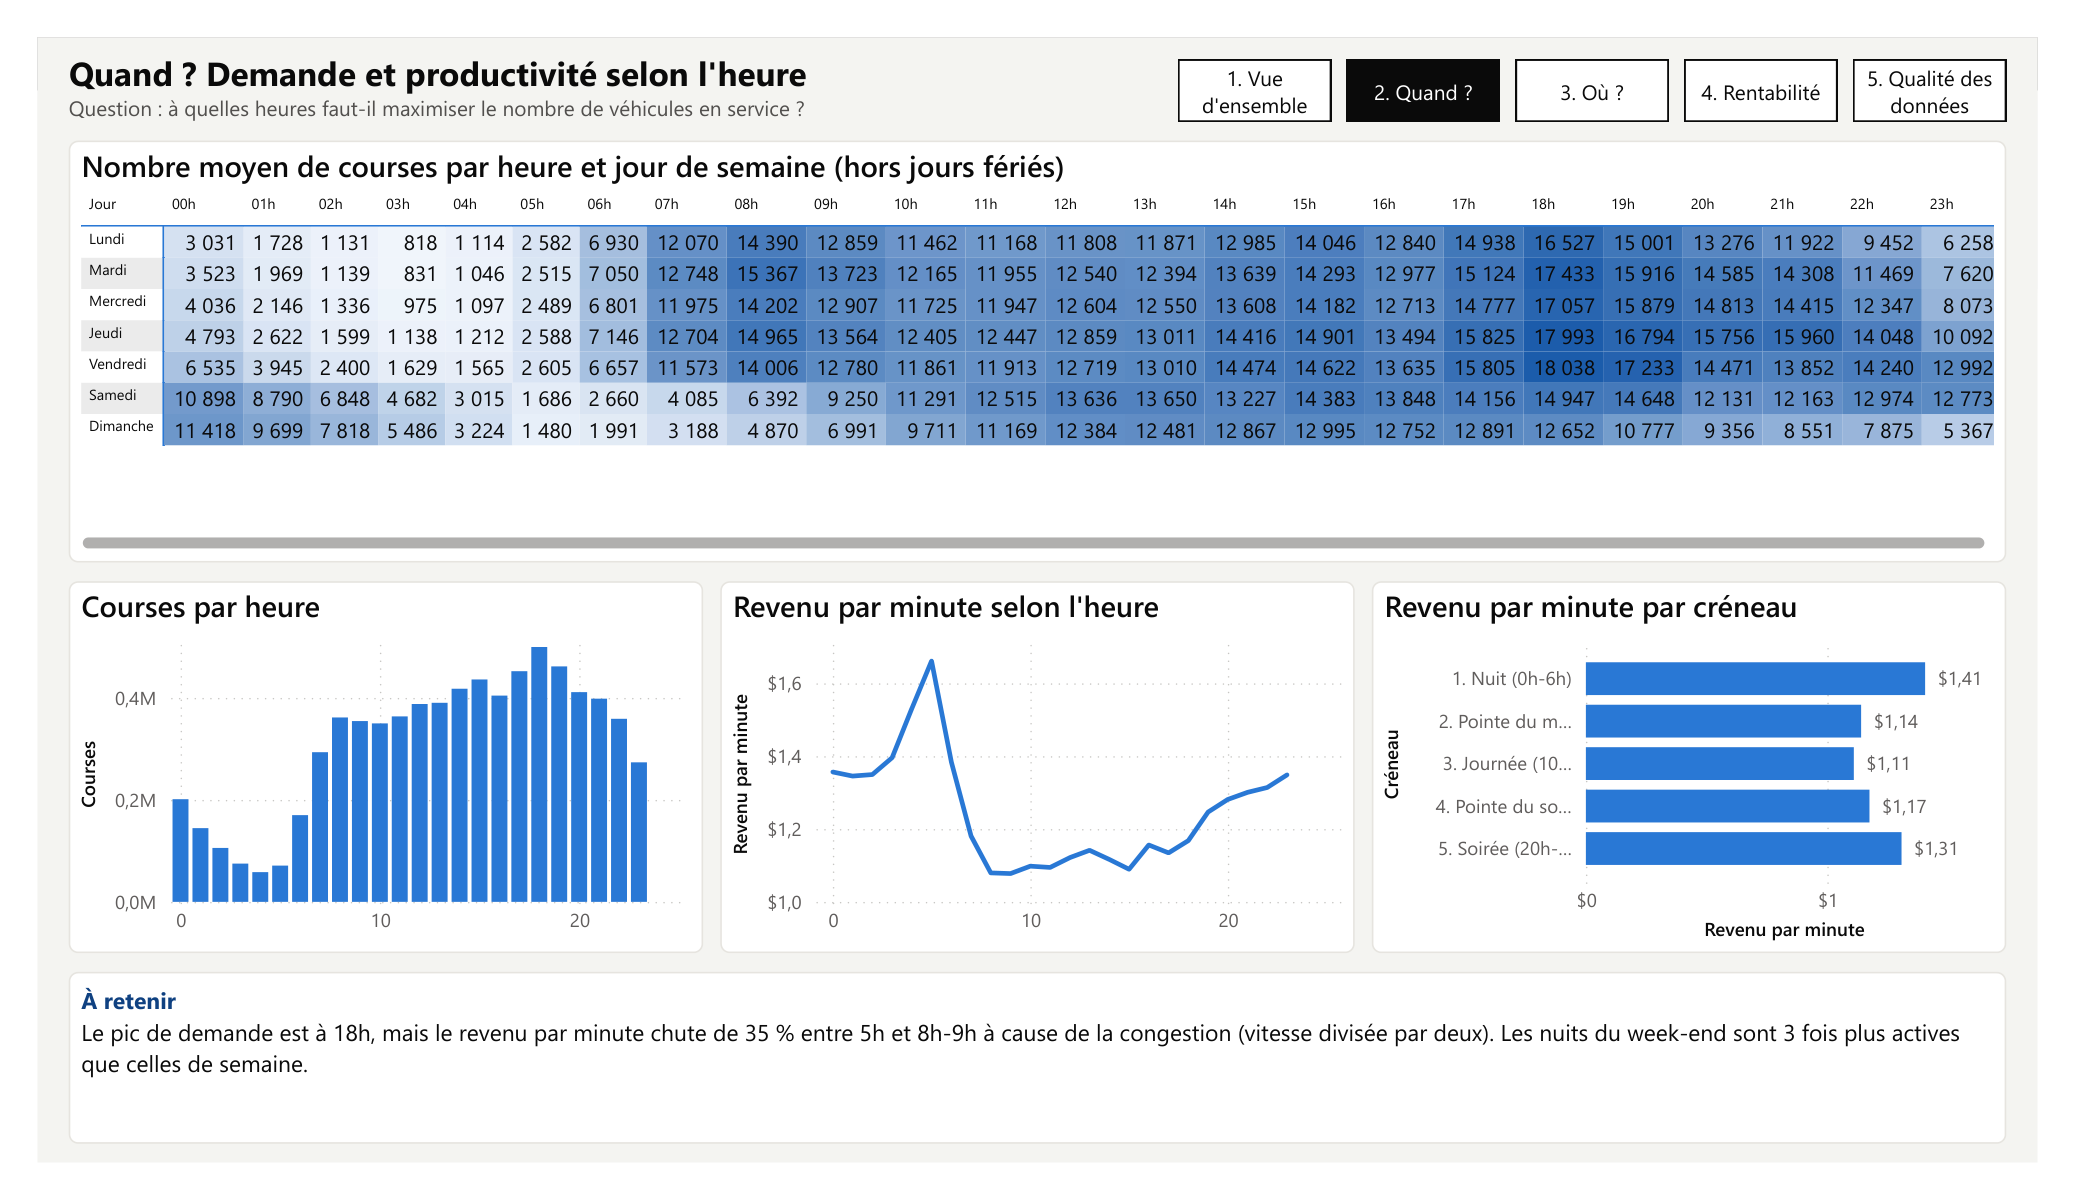

The page's visual inventory and layout, read from the dashboard file:
{"tool":"powerbi","page":{"name":"2. Quand ?","canvas":[1280,720],"ordinal":1},"visuals":[{"type":"textbox","box":[20,8,700,52],"z":0},{"type":"pageNavigator","box":[730,14,530,40],"z":1000},{"type":"pivotTable","title":"Nombre moyen de courses par heure et jour de semaine (hors jours fériés)","fields":{"Rows":["dim_date.Jour"],"Columns":["dim_hour.Heure"],"Values":["_Mesures.Courses par jour (hors fériés)"]},"box":[20,66,1240,270],"z":2000},{"type":"clusteredColumnChart","title":"Courses par heure","fields":{"Category":["dim_hour.N° heure"],"Y":["_Mesures.Courses"]},"box":[20,348,406,238],"z":3000},{"type":"lineChart","title":"Revenu par minute selon l''heure","fields":{"Category":["dim_hour.N° heure"],"Y":["_Mesures.Revenu par minute"]},"box":[437,348,406,238],"z":4000},{"type":"clusteredBarChart","title":"Revenu par minute par créneau","fields":{"Category":["dim_hour.Créneau"],"Y":["_Mesures.Revenu par minute"]},"box":[854,348,406,238],"z":5000},{"type":"textbox","box":[20,598,1240,110],"z":6000}]}

Visuals, with their boxes on the page's 1280x720 design canvas (x1, y1, x2, y2). These are canvas units, not pixel positions in the 2075x1200 screenshot, which may show the page scaled, cropped or inside an application window:
textbox: BBox(20, 8, 720, 60)
pageNavigator: BBox(730, 14, 1260, 54)
"Nombre moyen de courses par heure et jour de semaine (hors jours fériés)" pivotTable: BBox(20, 66, 1260, 336)
"Courses par heure" clusteredColumnChart: BBox(20, 348, 426, 586)
"Revenu par minute selon l''heure" lineChart: BBox(437, 348, 843, 586)
"Revenu par minute par créneau" clusteredBarChart: BBox(854, 348, 1260, 586)
textbox: BBox(20, 598, 1260, 708)
